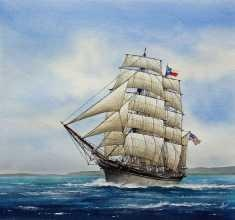fanchuan: (58, 44, 203, 184)
